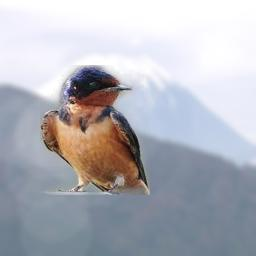Swallow: (40, 65, 150, 195)
